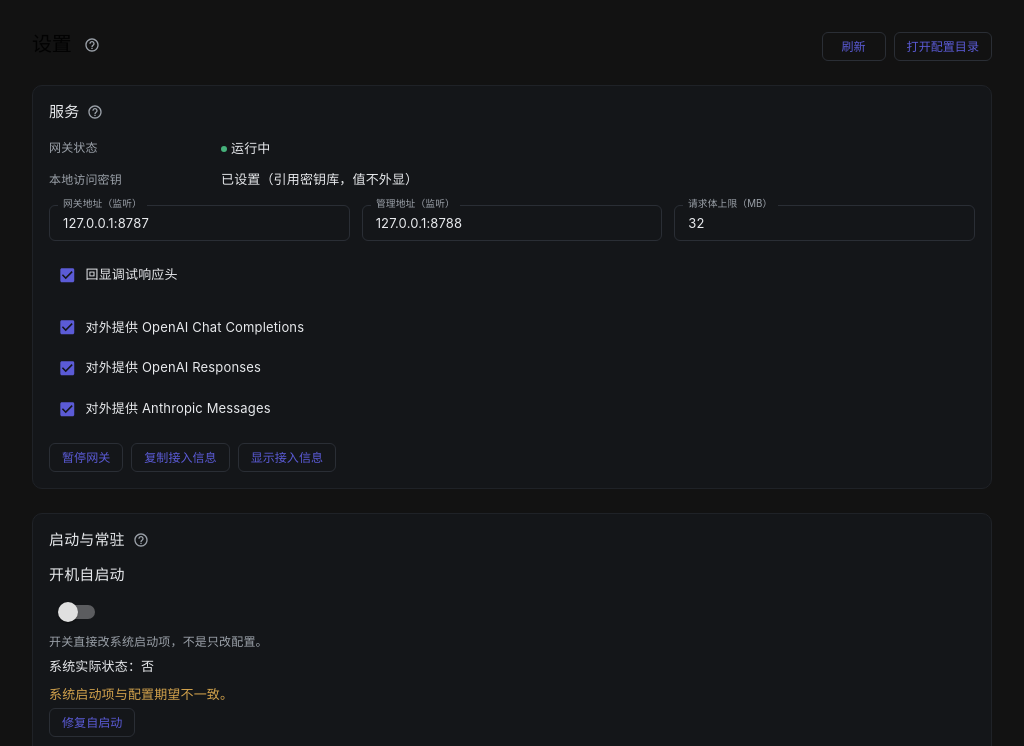
it: 开机自启动：开关绑系统事实，漂移可修复 › 点「修复自启动」调 app_repair_autostart；修好后漂移提示消失、不再有修复按钮
The width and height of the screenshot is (1024, 746).
Click the button with test id "settings-autostart-repair".
click(92, 723)  # box top-left (49, 708), bottom-right (135, 737)
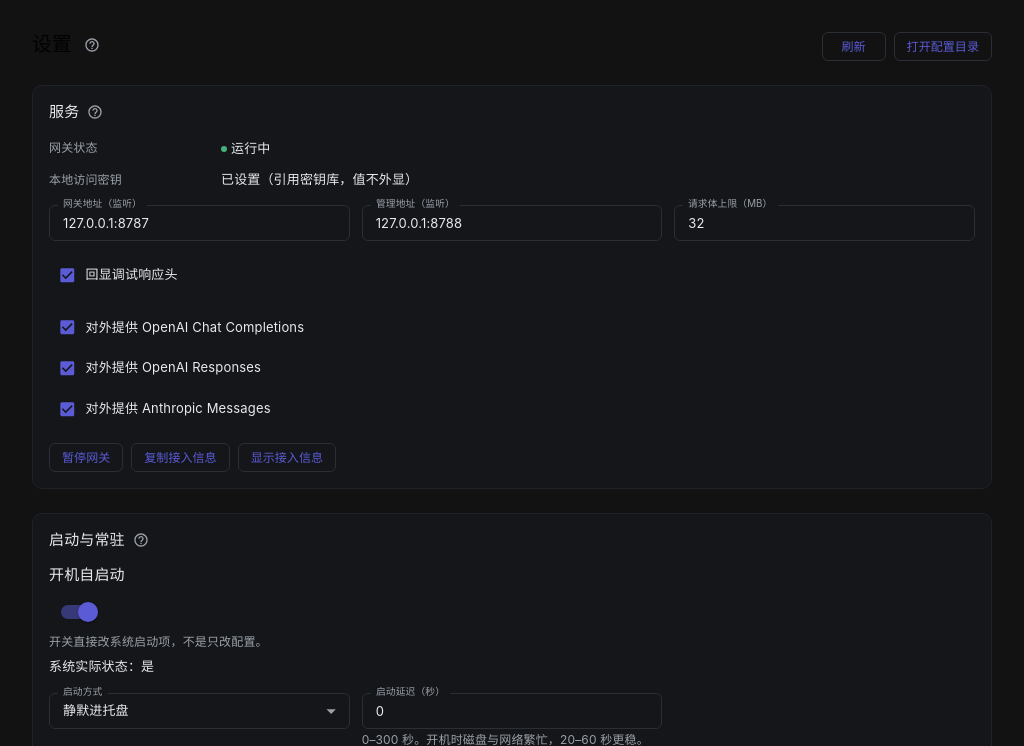
Now the element with test id "settings-autostart-drifted" is gone
Now the button with test id "settings-autostart-repair" is gone
